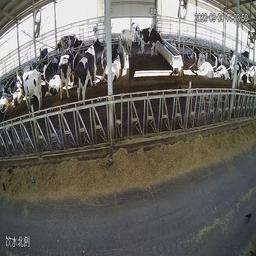cow: (75, 41, 105, 108), (16, 65, 44, 113), (100, 43, 121, 89), (58, 46, 74, 101), (137, 26, 160, 55), (228, 47, 242, 92), (118, 26, 136, 59), (49, 32, 71, 59), (196, 53, 214, 81), (45, 71, 62, 100), (68, 33, 89, 55), (11, 84, 26, 108), (0, 81, 10, 114), (213, 64, 230, 83), (130, 20, 141, 43), (39, 47, 49, 71), (217, 50, 229, 66)
